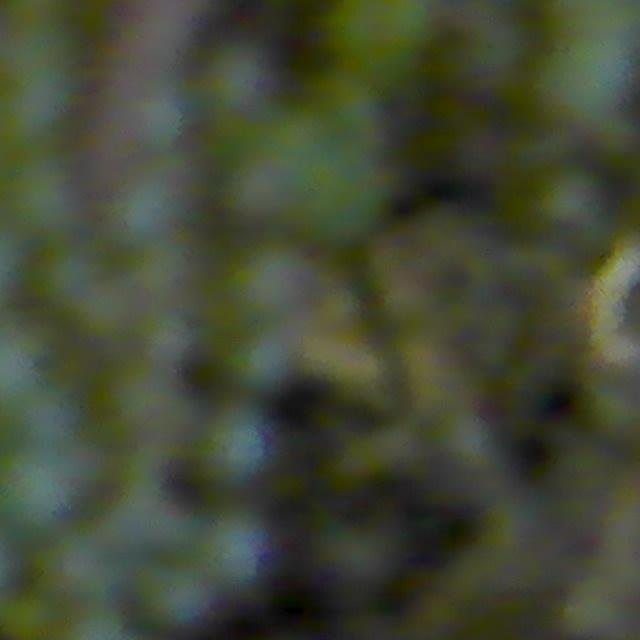SeaGrape: (537, 27, 640, 127), (324, 0, 446, 78), (225, 238, 320, 326), (0, 436, 85, 533), (0, 49, 81, 146), (198, 405, 276, 498), (2, 155, 86, 241), (315, 515, 405, 594), (104, 167, 190, 249), (44, 527, 130, 607), (200, 38, 281, 119), (534, 164, 609, 240), (140, 561, 214, 632), (204, 515, 274, 590), (226, 324, 298, 394), (34, 239, 99, 311), (77, 276, 142, 348), (133, 303, 203, 369), (1, 592, 58, 640)
